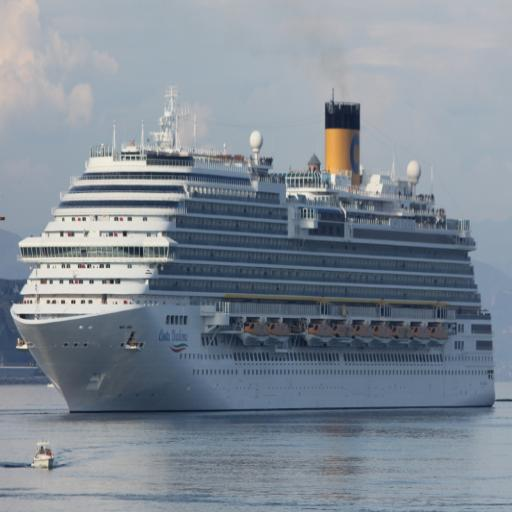cruises: (8, 87, 503, 426)
